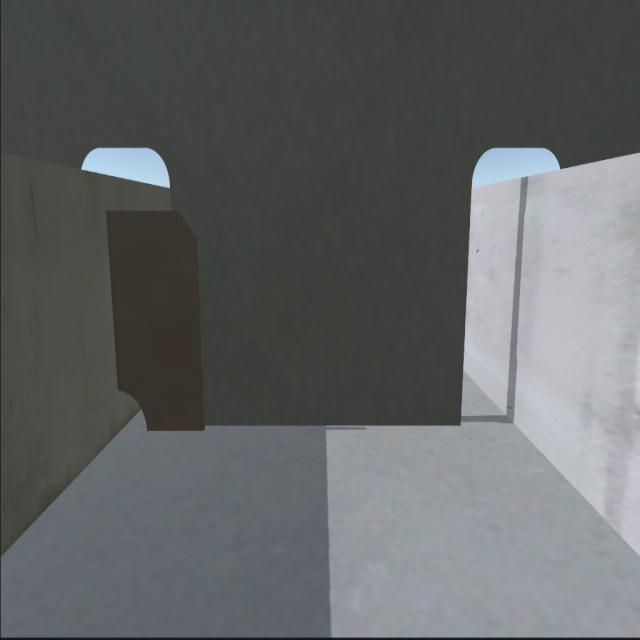fillet_hole: (120, 390, 144, 427)
fillet_yong_jeop_jang: (152, 420, 464, 433)
longi_yong_jeop_jang: (108, 220, 123, 386)
plate_CP03: (108, 214, 195, 436)
